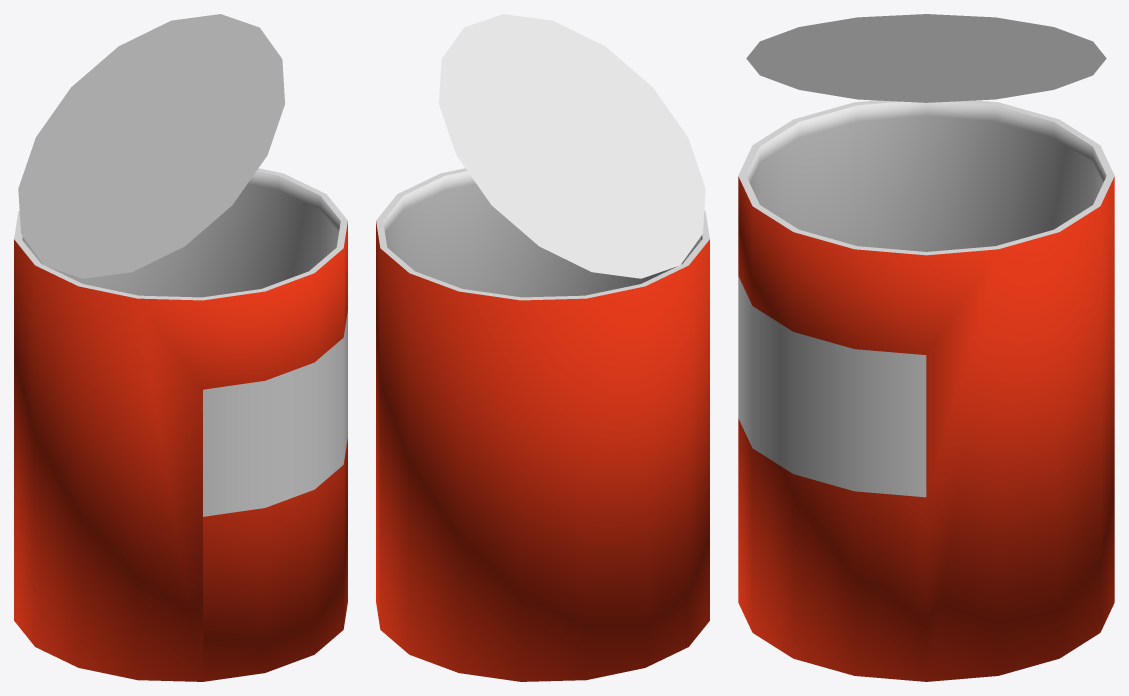
The model's file is open_can.glb.
The picture shows the model from 3 angles, left to right: view 1: azimuth 30°, elevation 25°; view 2: azimuth 150°, elevation 25°; view 3: azimuth 270°, elevation 25°; orthographic projection. The views are drawn at different scales.
Visible parts, largest first — view 1: OpenCan, CanLid; view 2: OpenCan, CanLid; view 3: OpenCan, CanLid.
Part boxes in pixels (x1,y1,x2,y2): OpenCan: (14,168,347,681); CanLid: (18,14,284,278); OpenCan: (376,168,709,681); CanLid: (439,14,705,278); OpenCan: (738,100,1114,681); CanLid: (746,14,1106,102).
Size of the model in its own units: 0.04 by 0.074 by 0.04.
